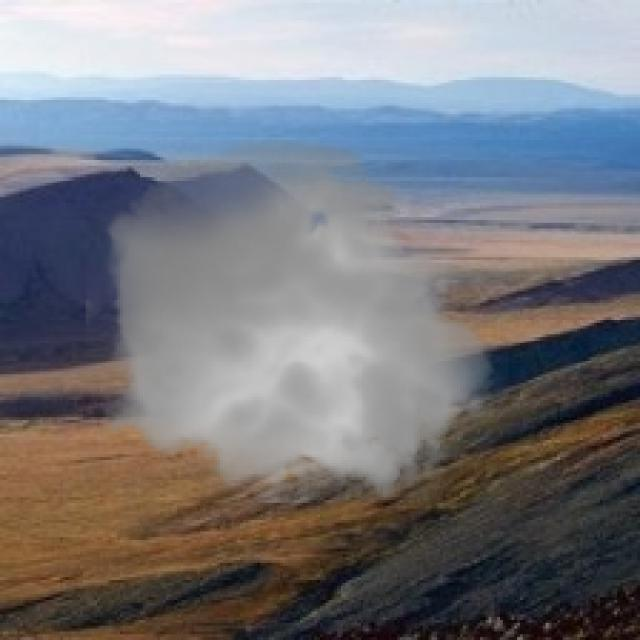Smoke: (86, 125, 508, 520)
